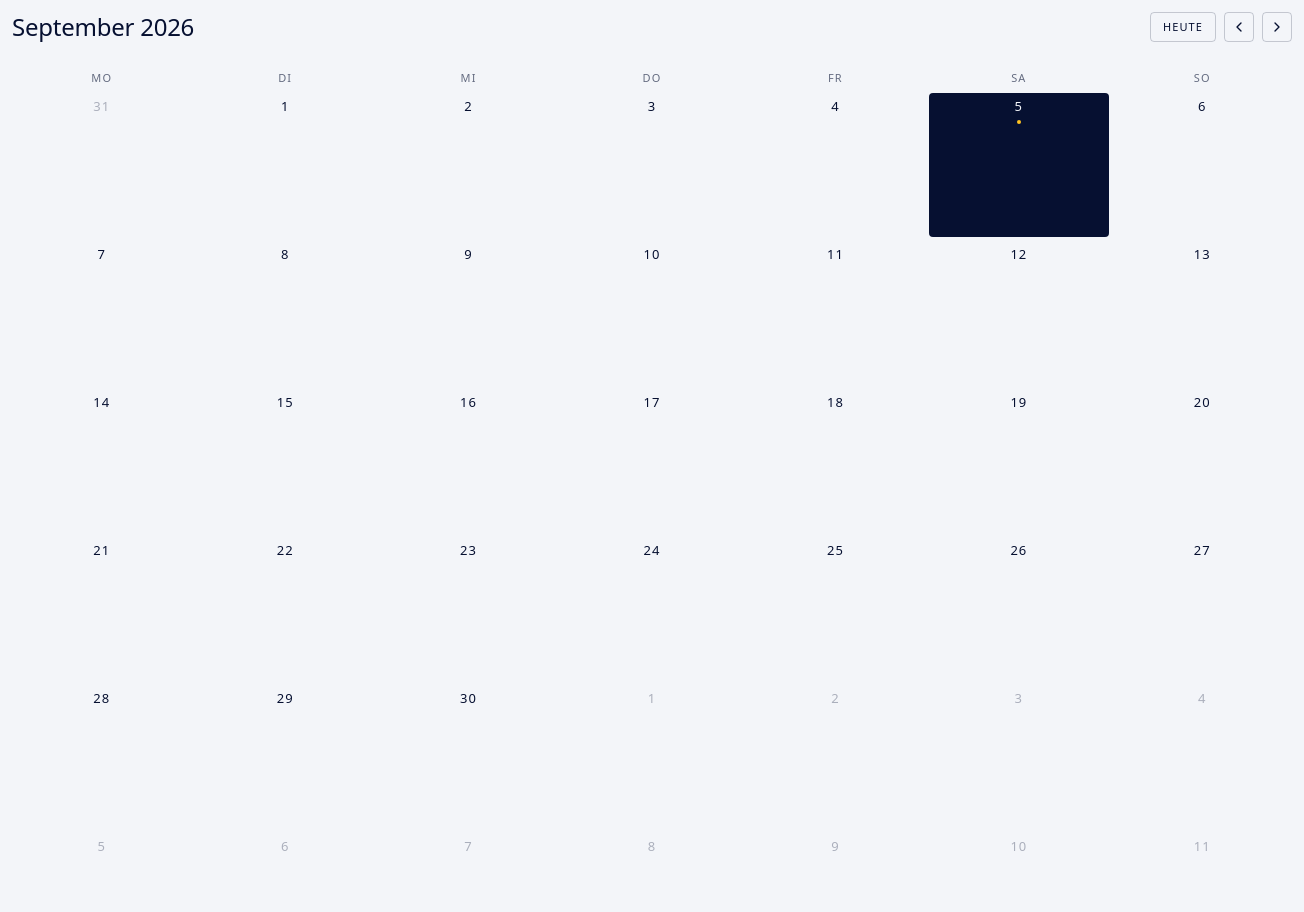
it: EventCalendarGrid › returns to the current month and selects today via the Today button
The width and height of the screenshot is (1304, 912).
Click the button named "Nächster Monat".
click(1277, 27)  # box 1262,12 -> 1292,42
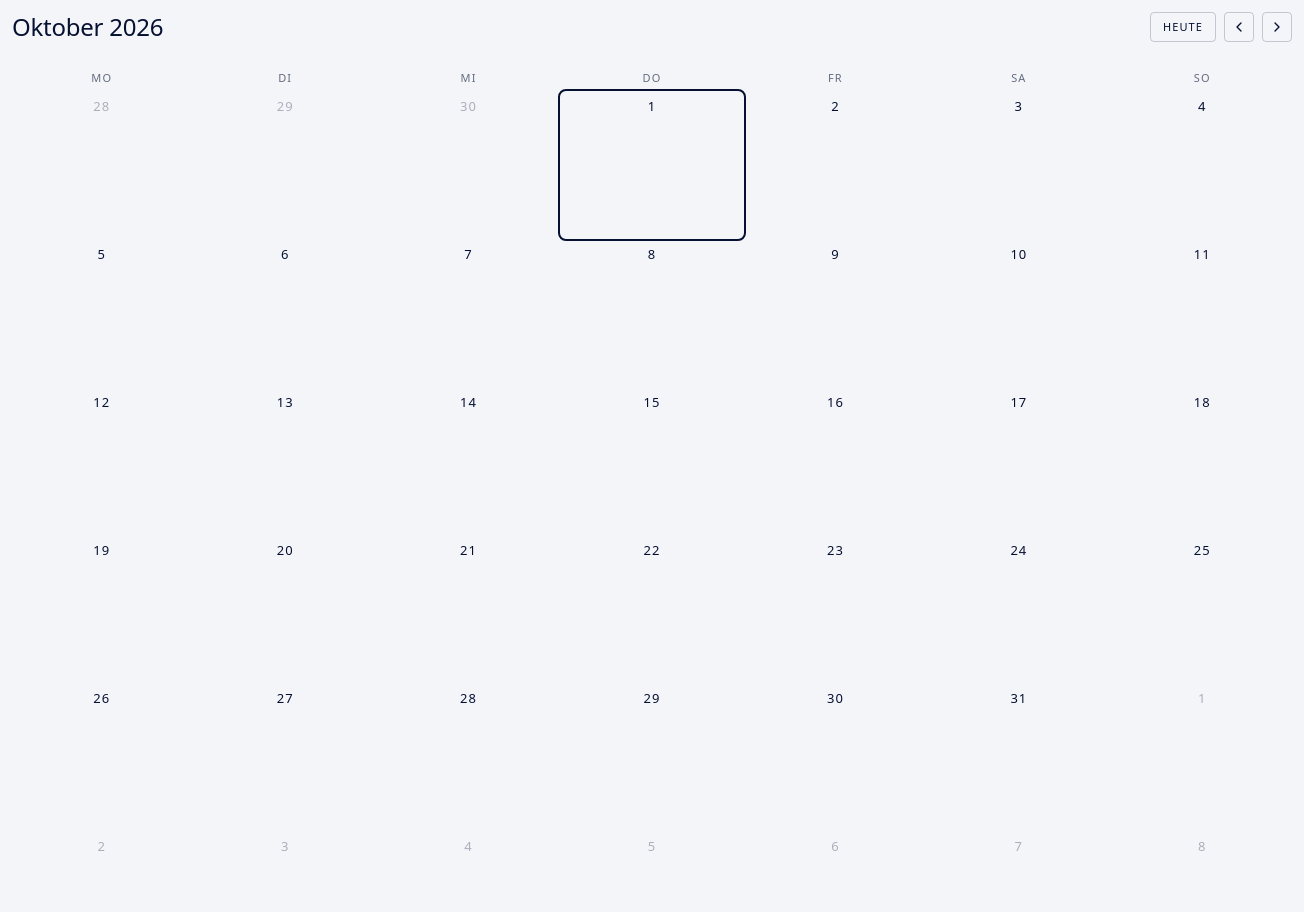
Expected: the heading "Oktober 2026" is shown, 12,12 -> 163,42
Click the button "Heute".
click(1183, 27)  # box 1150,12 -> 1216,42
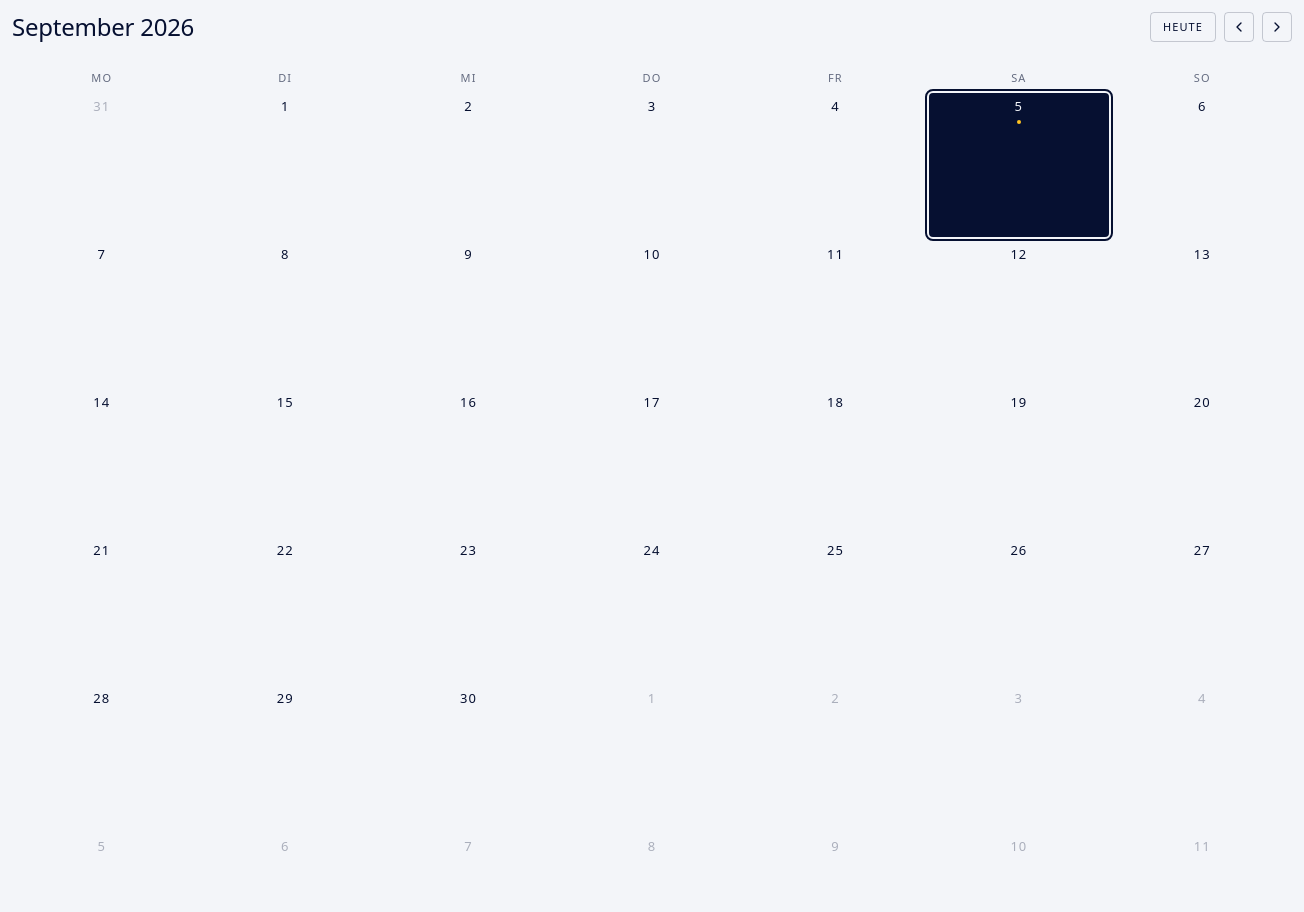
Expected: the heading "September 2026" is shown, 12,12 -> 194,42
